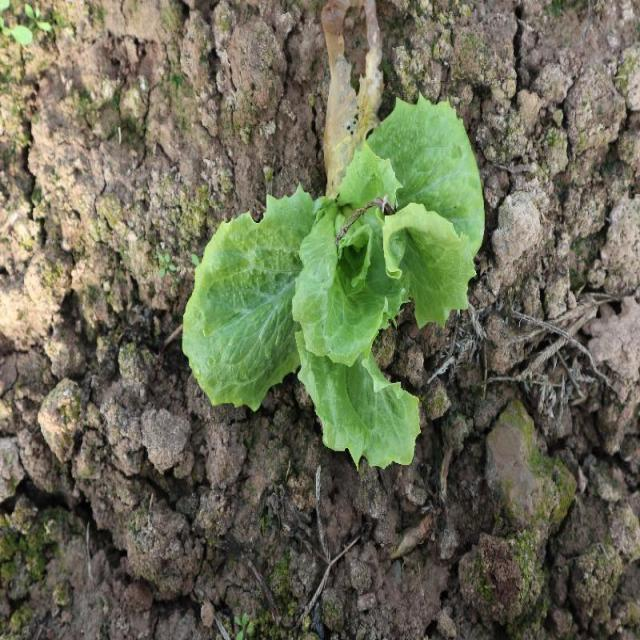crop: (182, 95, 486, 466)
